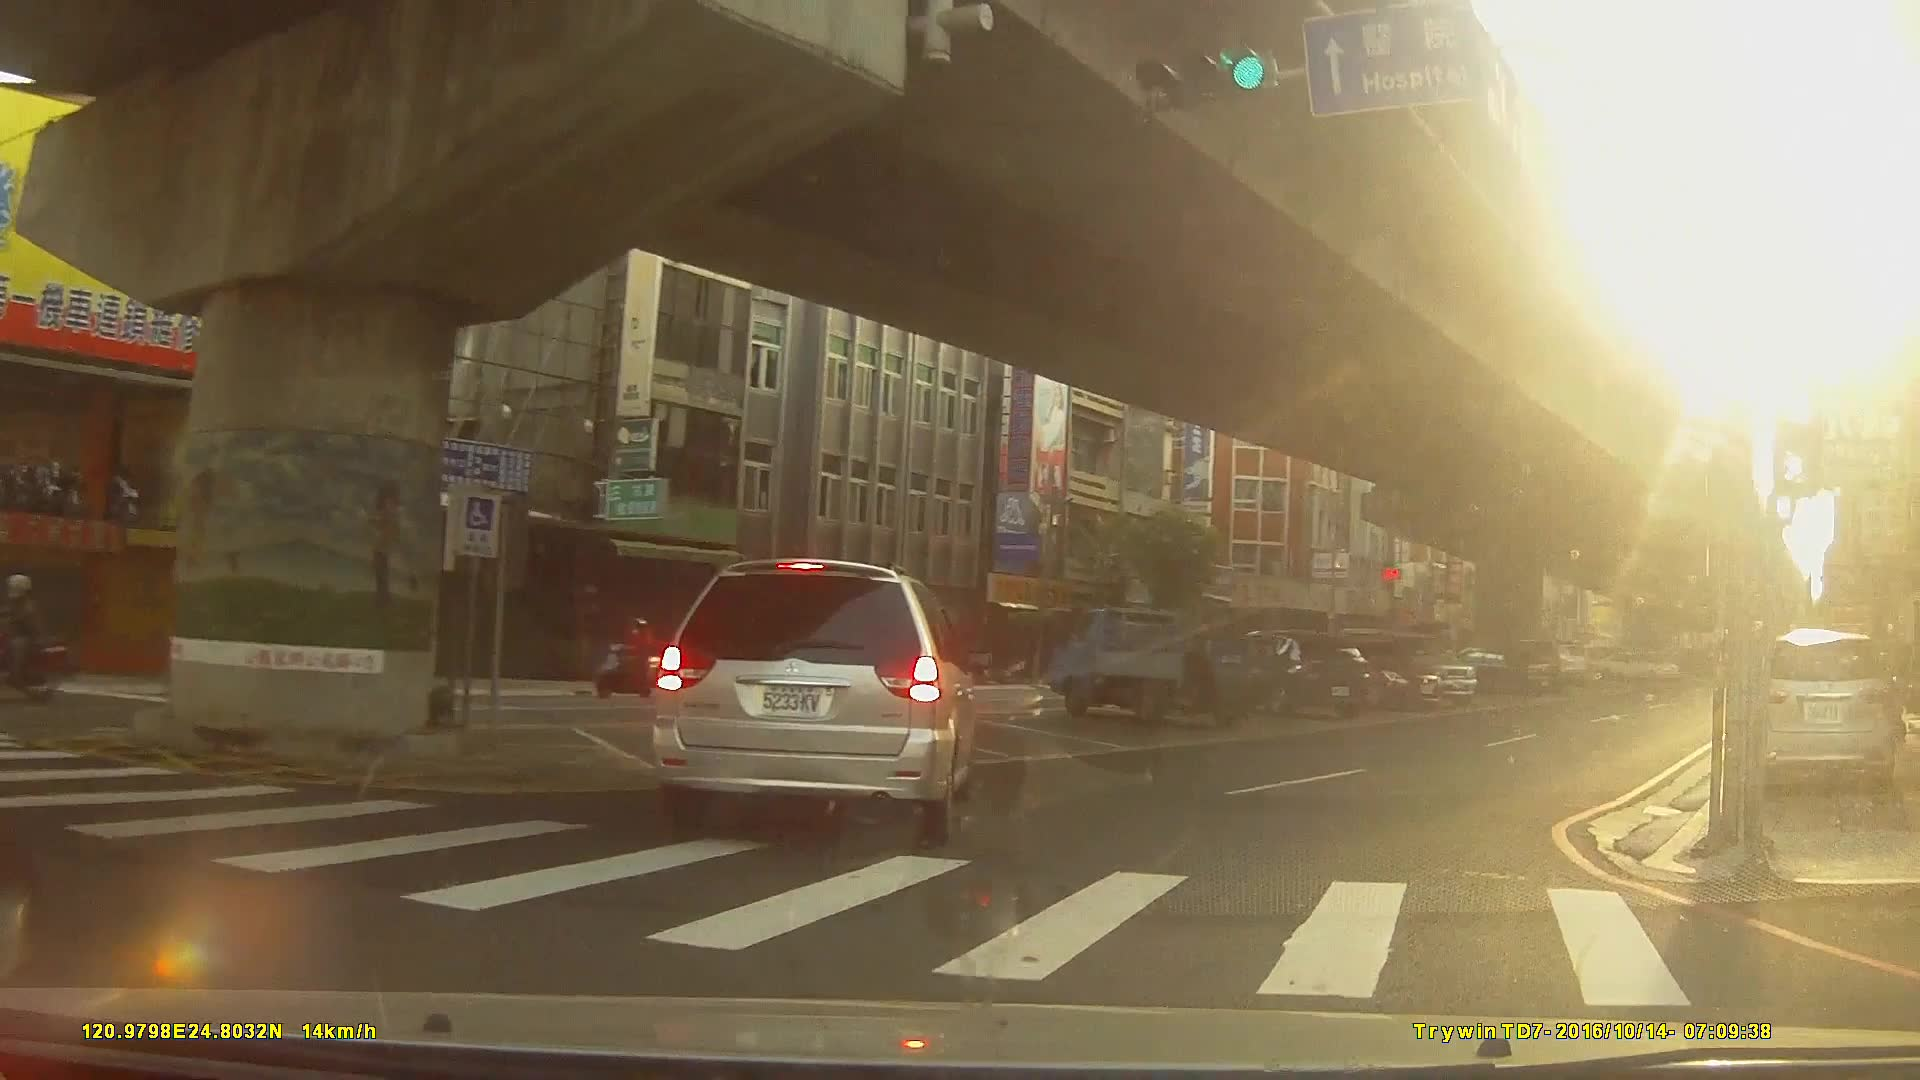rider: (1, 575, 77, 707), (598, 617, 665, 701)
vehicle: (651, 557, 976, 848), (1047, 603, 1268, 724), (1746, 629, 1895, 802), (1213, 627, 1368, 718), (1297, 634, 1444, 710), (1434, 646, 1532, 697)
